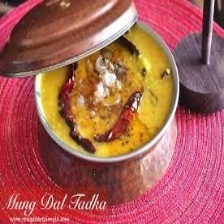dal: (38, 23, 172, 161)
